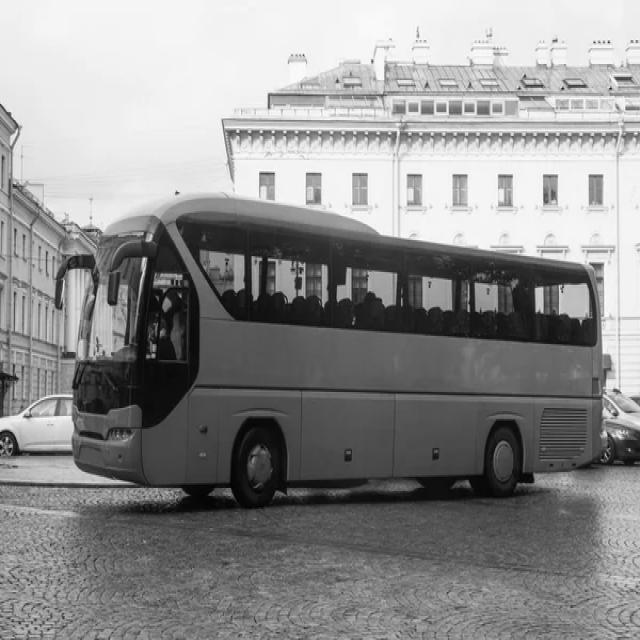Bus: (70, 194, 604, 511)
Car: (0, 396, 73, 454)
